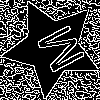M: (27, 22, 87, 80)
